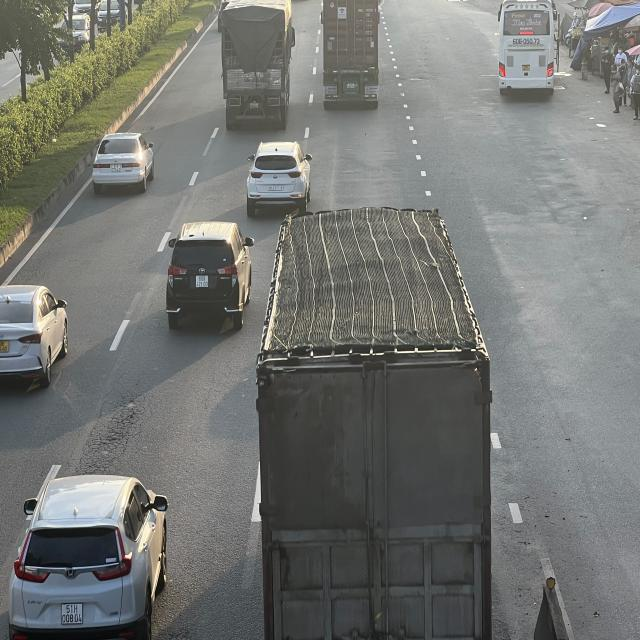car: (10, 472, 172, 640), (165, 223, 255, 330), (0, 286, 68, 392), (247, 141, 314, 215), (94, 131, 158, 193)
coach: (502, 3, 561, 99)
container: (322, 2, 383, 112)
truck: (259, 210, 494, 640), (218, 2, 294, 132)
